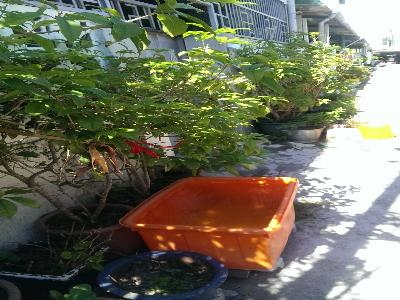box: (119, 175, 301, 272)
